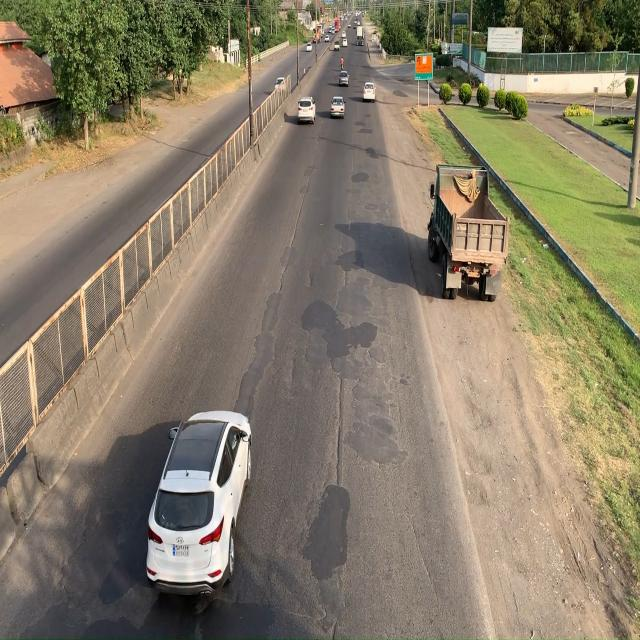Truck: (427, 160, 509, 299)
cars: (144, 403, 255, 600), (330, 91, 346, 123), (298, 96, 316, 124)
